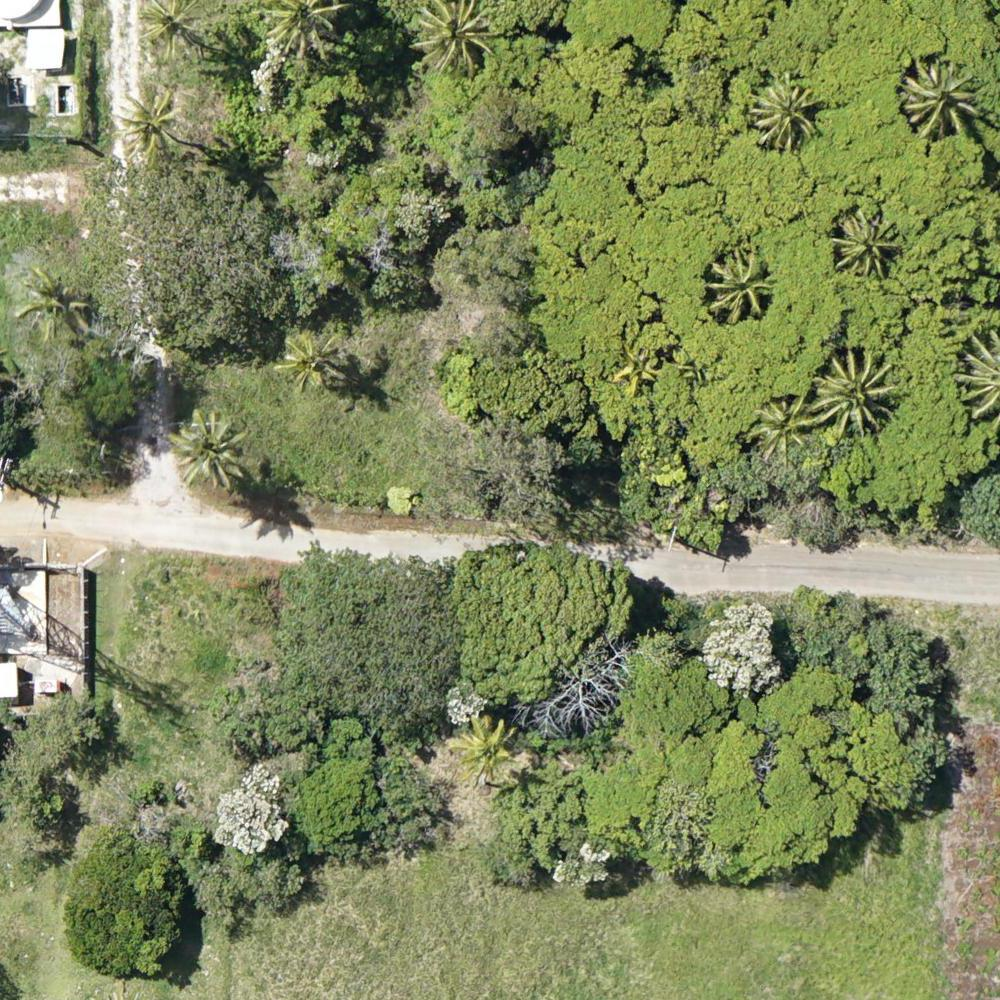Palm: (900, 58, 984, 141), (812, 351, 899, 430), (407, 1, 497, 74), (168, 409, 246, 490), (748, 80, 822, 152), (256, 1, 345, 60), (706, 247, 774, 321), (20, 267, 90, 338), (449, 714, 517, 781), (836, 209, 901, 279), (117, 86, 181, 157), (134, 1, 201, 63), (755, 389, 815, 456), (283, 323, 343, 384)
